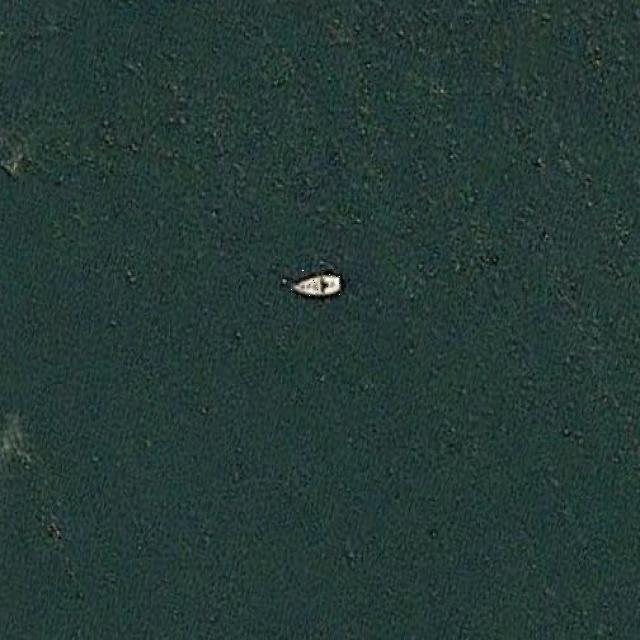boat: (290, 269, 344, 300)
